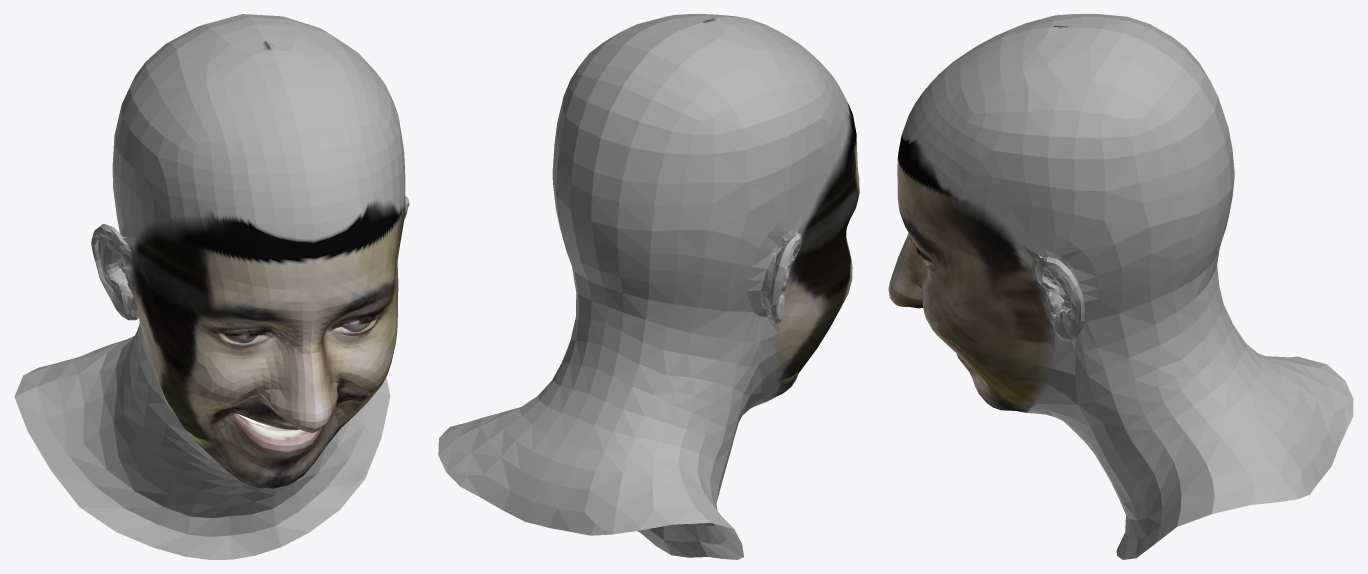
The model's file is ezgif-frame-015.obj.
3 views of the same model, side by side, from view 1: azimuth 30°, elevation 25°; view 2: azimuth 150°, elevation 25°; view 3: azimuth 270°, elevation 25° (orthographic). The views are drawn at different scales.
Size of the model in its own units: 0.2073 by 0.328 by 0.2692.
1 material, 1 textured.
